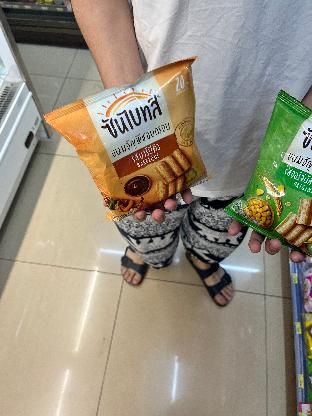Plastic Packaging: (40, 53, 216, 218), (220, 88, 312, 262)
